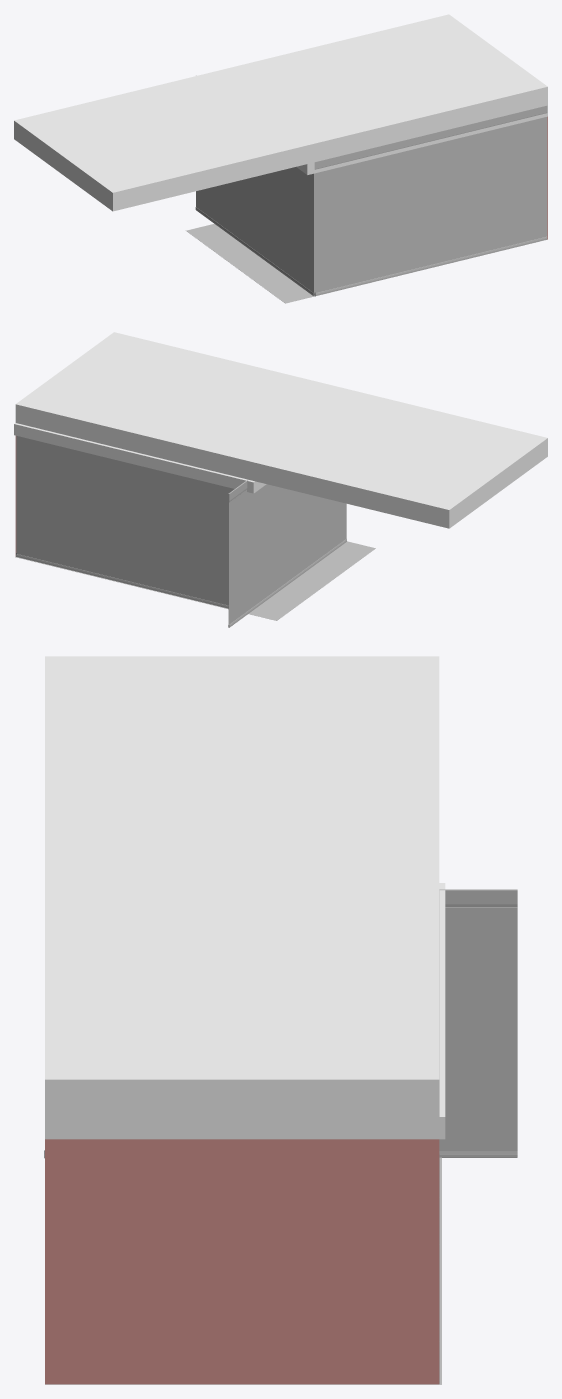
The model's file is 办公室.fbx.
3 renders of one model, top to bottom at view 1: azimuth 30°, elevation 25°; view 2: azimuth 150°, elevation 25°; view 3: azimuth 270°, elevation 25°, orthographic. The views are drawn at different scales.
Parts seen in each view (by area): view 1: 房顶, 墙面, 地面; view 2: 房顶, 墙面, 地面; view 3: 房顶, 墙面, 地面.
Part boxes in pixels (box(x1,y1,x2,y2)): 房顶: box(14, 14, 547, 211); 墙面: box(195, 75, 547, 296); 地面: box(186, 223, 314, 303); 房顶: box(14, 332, 547, 528); 墙面: box(15, 423, 346, 627); 地面: box(15, 541, 375, 620); 房顶: box(45, 656, 445, 1139); 墙面: box(44, 889, 517, 1384); 地面: box(45, 1157, 441, 1384).
Bounding box in the file's own units: 1220 × 410 × 576.
